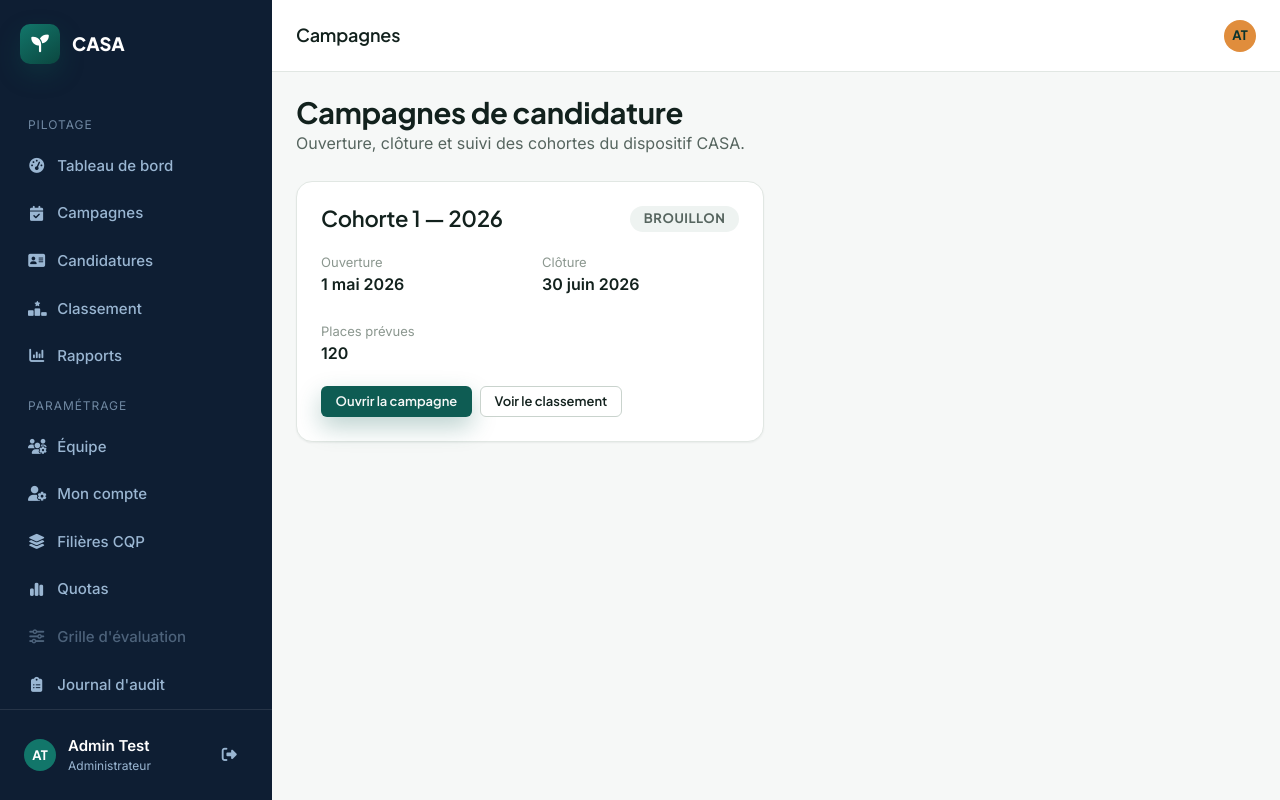
Test: Campagnes — GET /admin/campagnes (nouvel endpoint) + transitions › ouvrir -> confirmation -> PATCH {statut:"ouverte"}, la ligne se met à jour depuis la réponse
Expected: the heading "Cohorte 1 — 2026" is shown, top-left (321, 206), bottom-right (503, 231)
Click the button "Ouvrir la campagne" at (396, 401), box top-left (321, 386), bottom-right (472, 416)
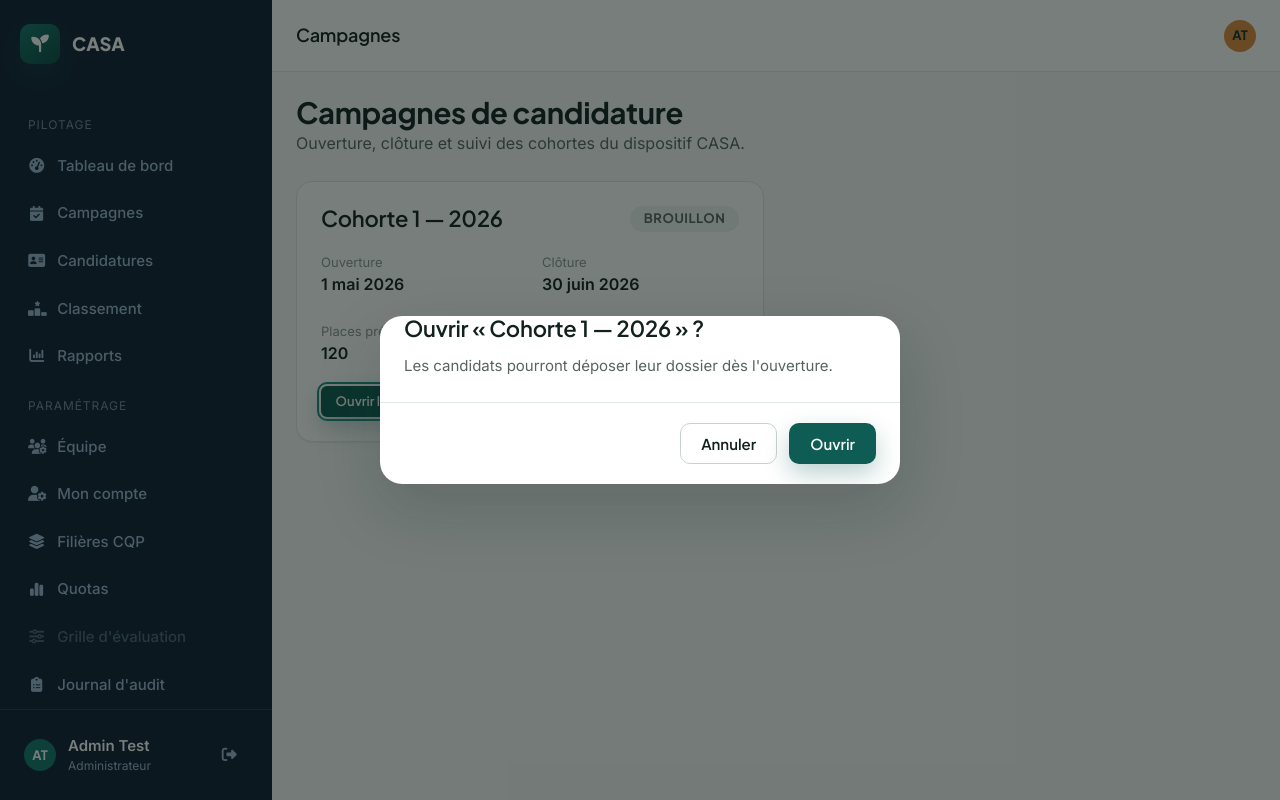
Click the button "Ouvrir" at (833, 444), box top-left (789, 423), bottom-right (876, 464)
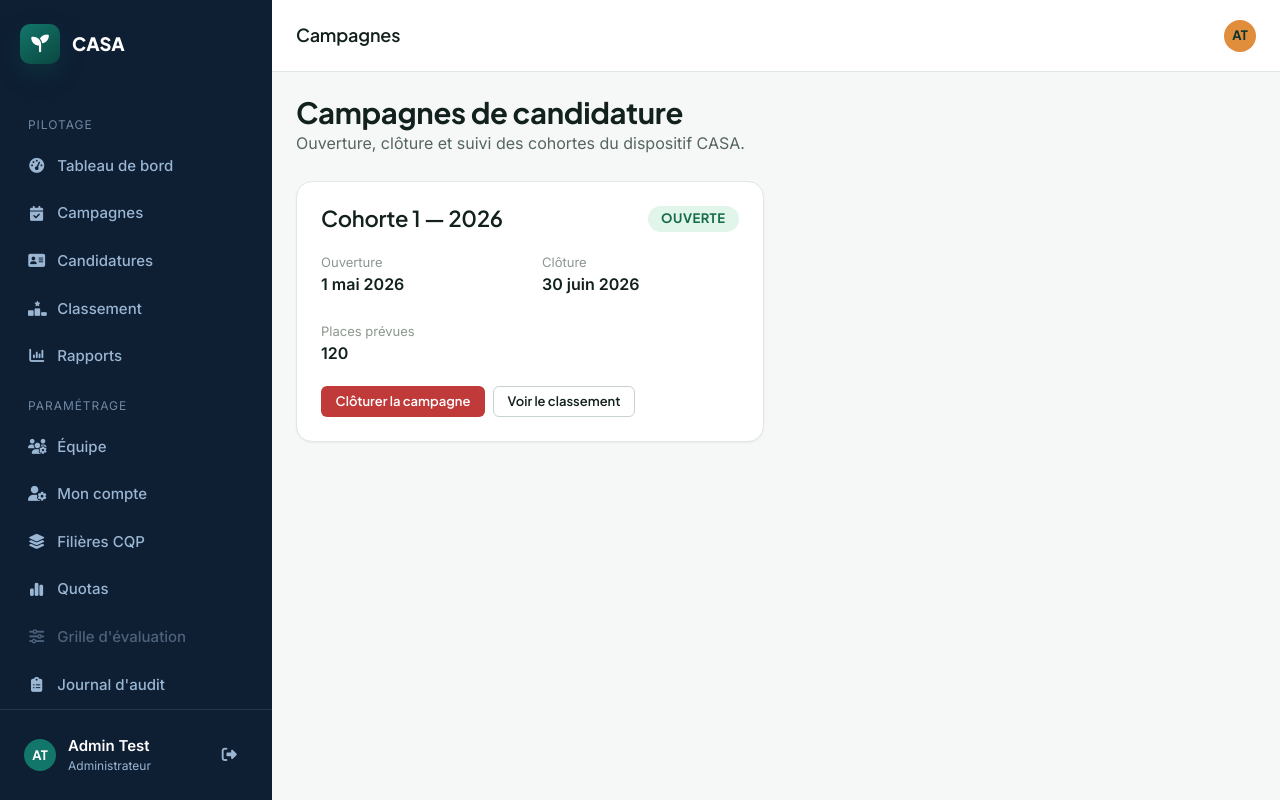
Expected: the text "Ouverte" is shown, top-left (648, 206), bottom-right (739, 232)
Expected: the dialog is gone
